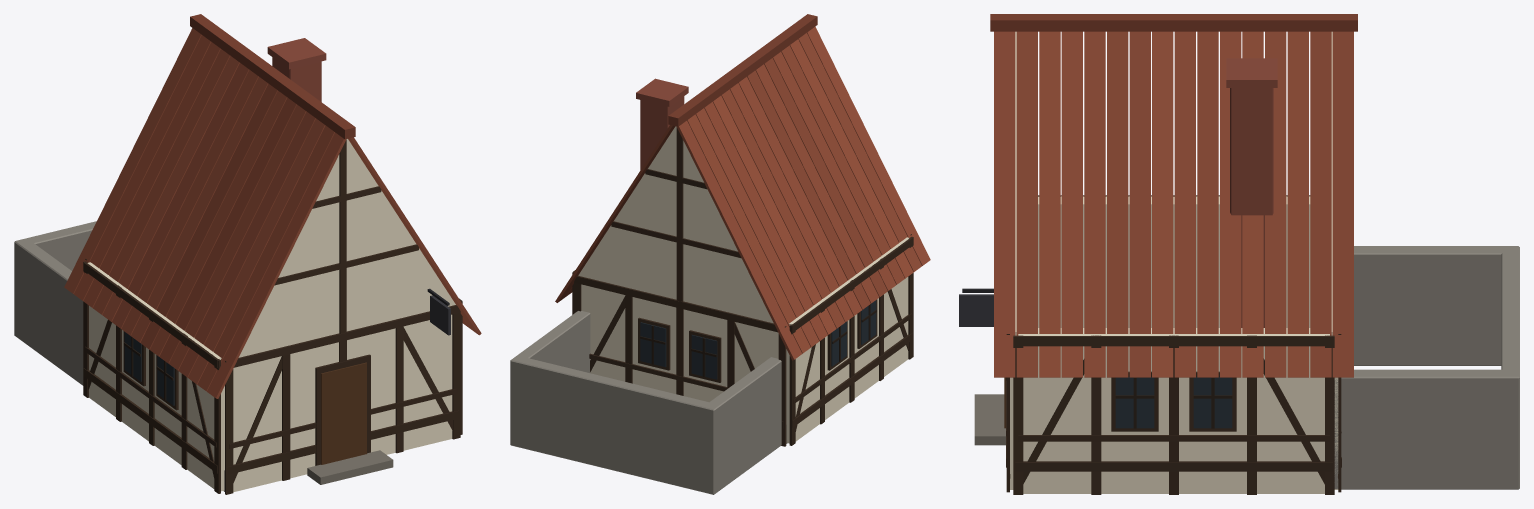
Rendered from jail_2.glb.
The picture shows the model from 3 angles, left to right: view 1: azimuth 30°, elevation 25°; view 2: azimuth 150°, elevation 25°; view 3: azimuth 270°, elevation 25°; orthographic projection. The views are drawn at different scales.
Visible parts, largest first — view 1: jail2_tiles, jail2_plaster, jail2_wood, jail2_stone, jail2_brick, jail2_glass; view 2: jail2_tiles, jail2_plaster, jail2_stone, jail2_wood, jail2_glass, jail2_brick; view 3: jail2_tiles, jail2_stone, jail2_plaster, jail2_wood, jail2_brick, jail2_glass.
Part boxes in pixels (<box>): jail2_tiles: <box>64,14,481,398</box>; jail2_plaster: <box>87,139,455,492</box>; jail2_wood: <box>83,140,462,494</box>; jail2_stone: <box>14,221,393,491</box>; jail2_brick: <box>267,38,326,101</box>; jail2_glass: <box>124,332,174,405</box>; jail2_tiles: <box>555,14,930,360</box>; jail2_plaster: <box>578,126,908,443</box>; jail2_stone: <box>510,311,787,494</box>; jail2_wood: <box>572,127,913,446</box>; jail2_glass: <box>640,300,876,379</box>; jail2_brick: <box>636,78,688,169</box>; jail2_tiles: <box>990,14,1357,377</box>; jail2_stone: <box>974,246,1519,489</box>; jail2_plaster: <box>1010,31,1338,493</box>; jail2_wood: <box>959,195,1341,494</box>; jail2_brick: <box>1226,58,1277,327</box>; jail2_glass: <box>1115,377,1232,428</box>.
Bounding box in the file's own units: 5.85 × 7.24 × 9.
